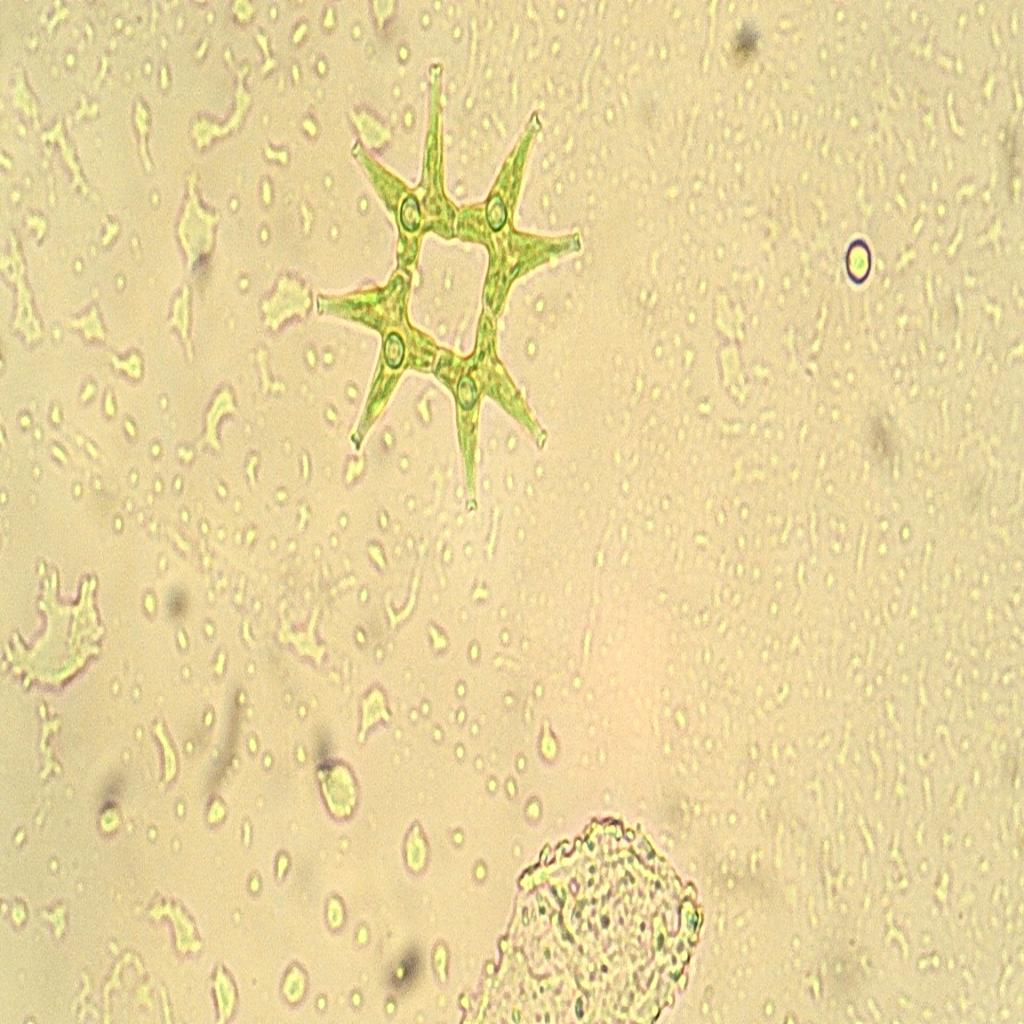Pediastrum_10: (287, 42, 599, 531)
